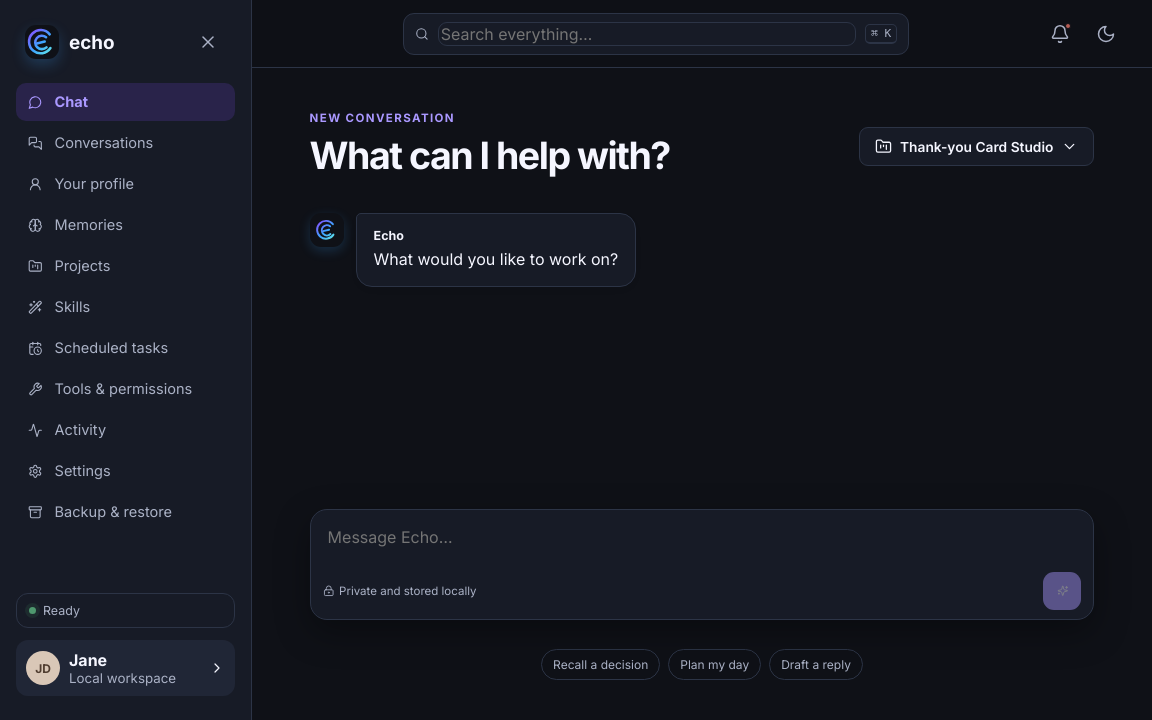
it: Echo desktop › uses a confirmed preference in a later answer and exposes its source
In the text box labelled "Message Echo": (702, 547) [323,522,1081,572], type "Please remember that I prefer short step-by-step instructions"
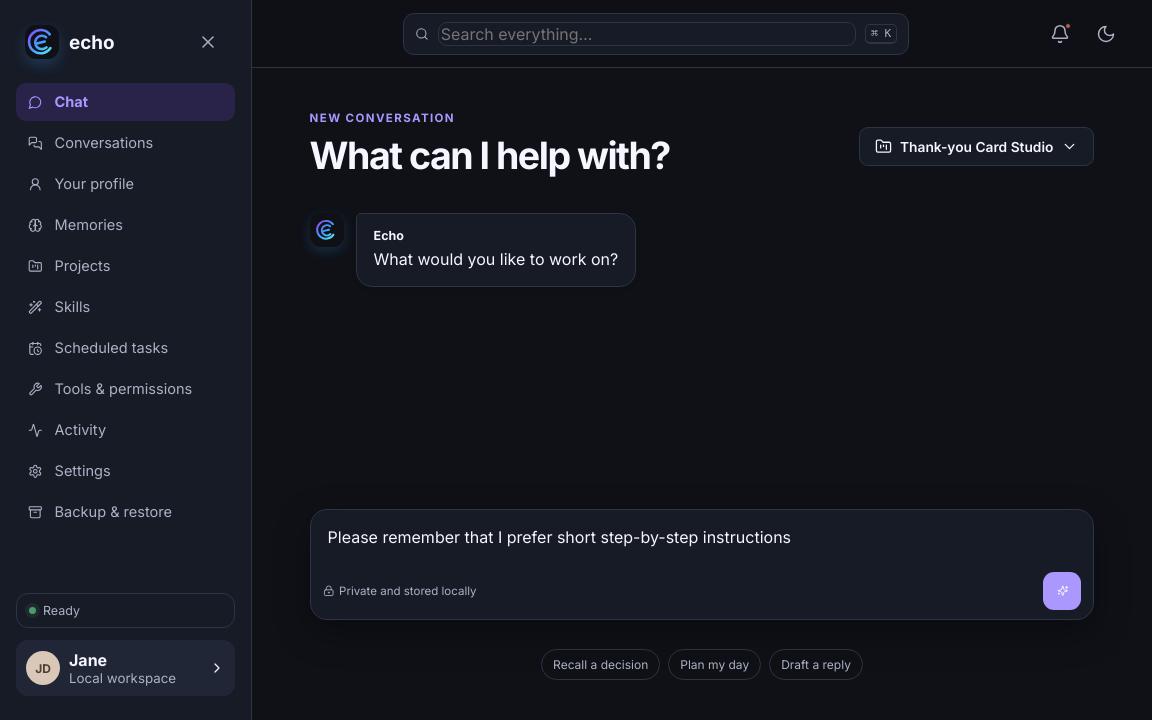
Click the button named "Send message": (1062, 591) [1043,572,1081,610]
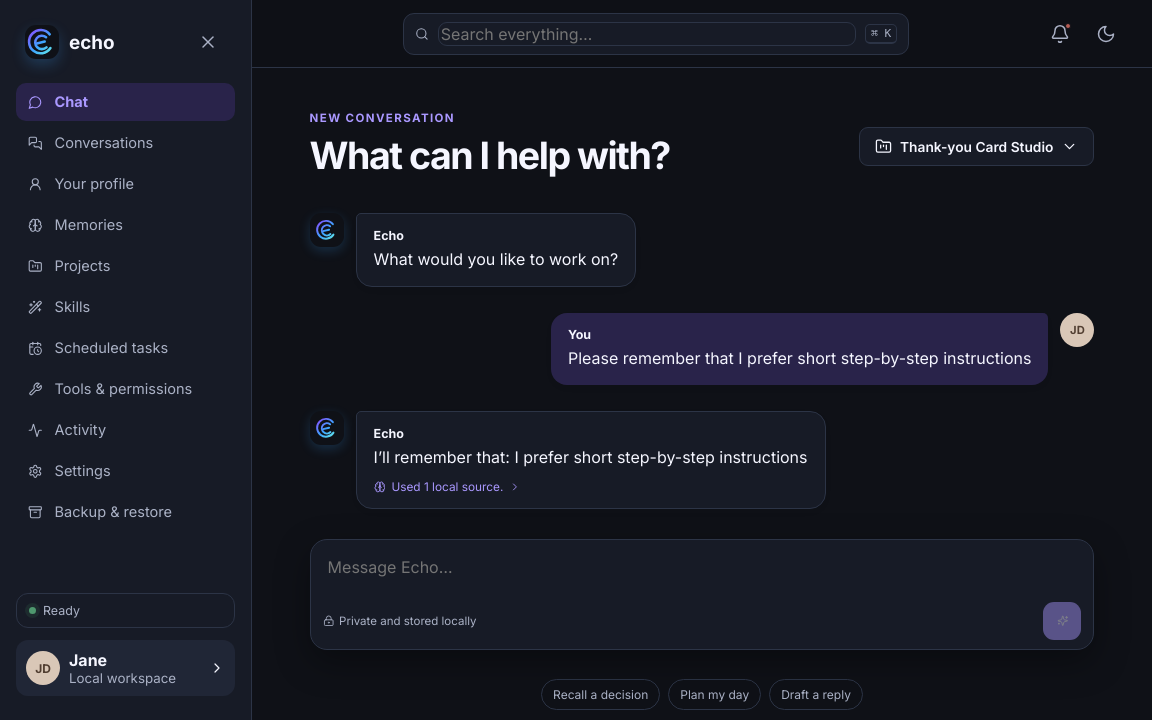
In the text box labelled "Message Echo": (702, 577) [323,552,1081,602], type "Help me plan tomorrow"
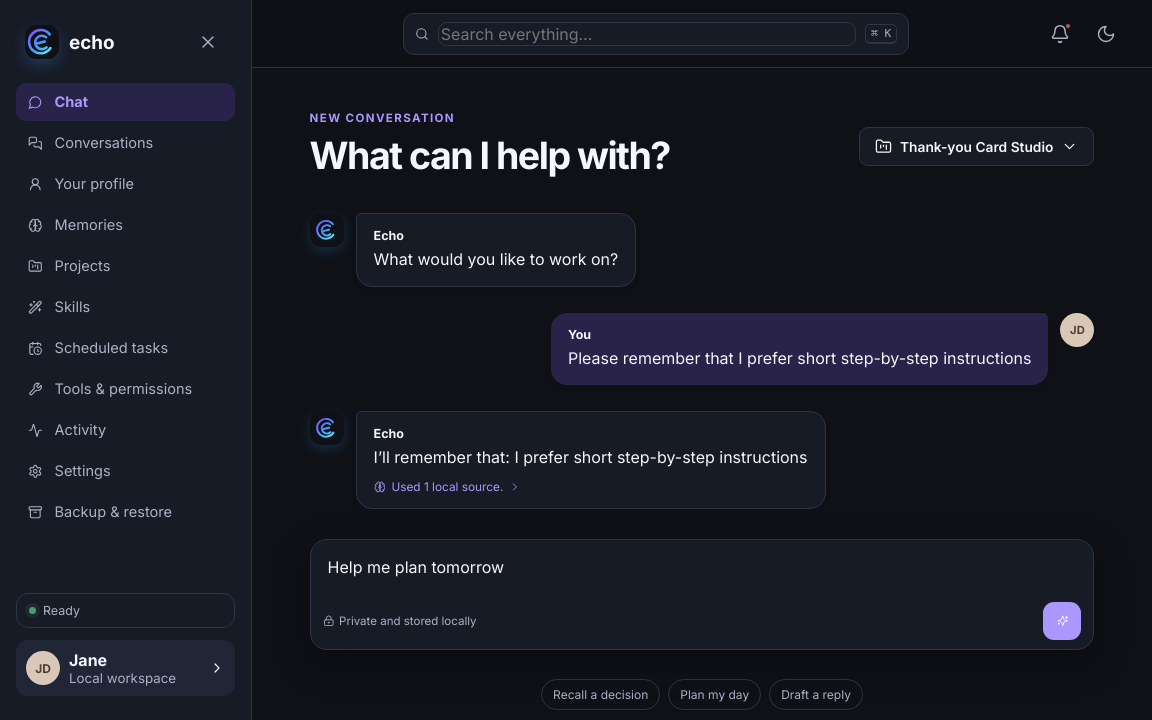
Click the button named "Send message": (1062, 621) [1043,602,1081,640]
(page scrolled)
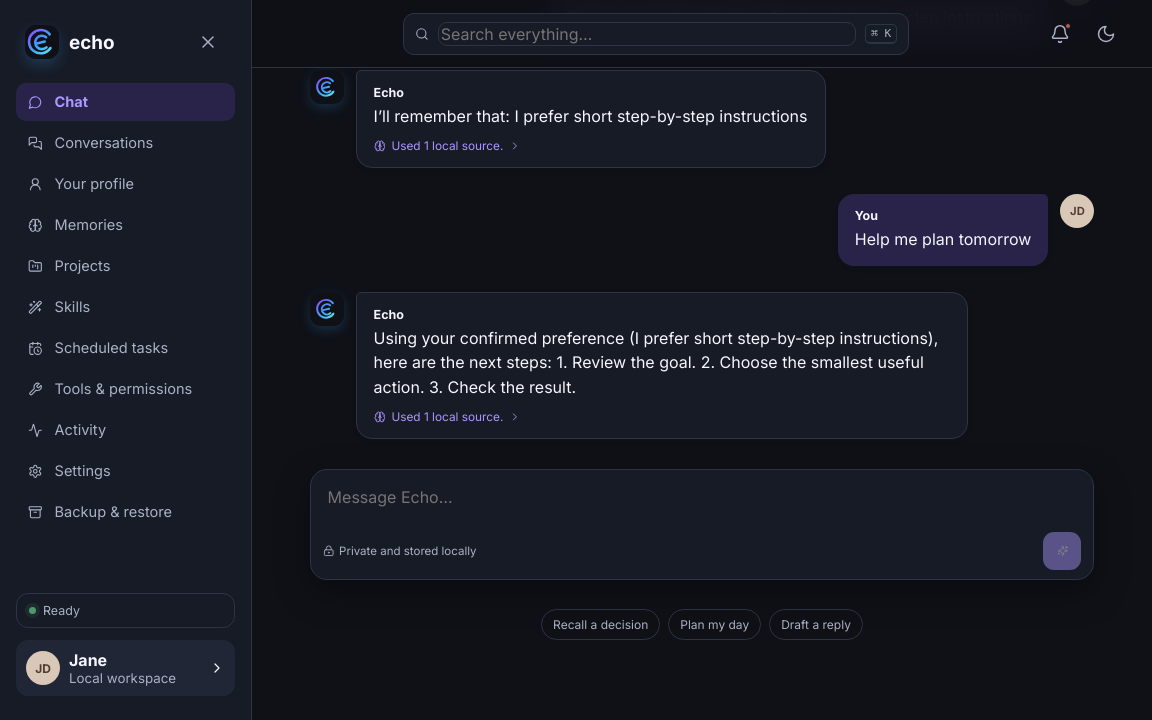
Check: the text "1. Review the goal" is shown, box [374,328,938,397]
Click the 2nd button "Used 1 local source.": (447, 412) [374,400,521,424]
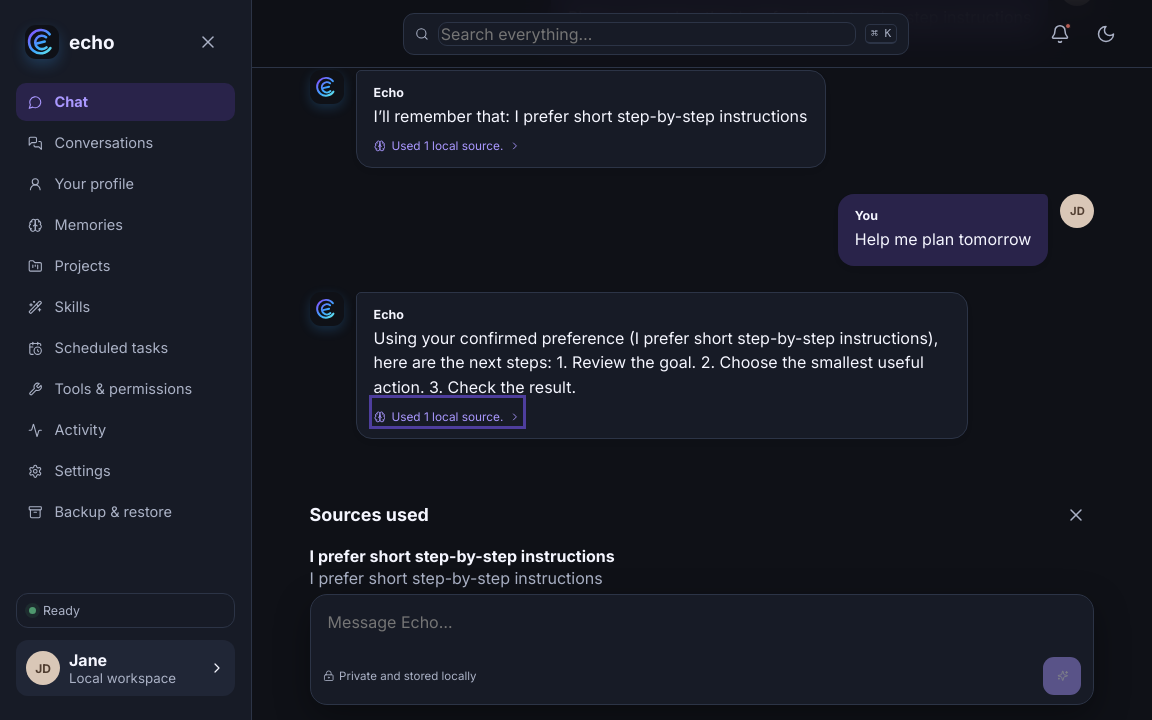
Check: the element "Sources used" shows "short step-by-step instructions", box [310,546,615,566]
